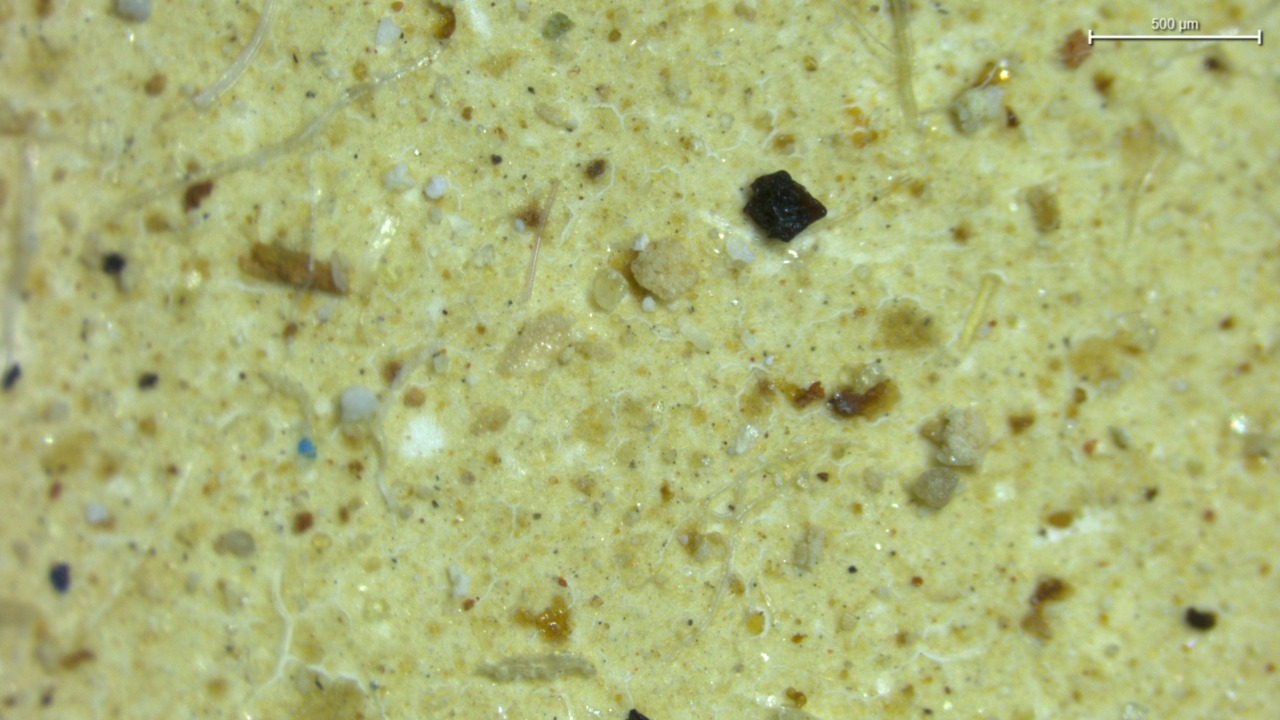microplastic_fragment: (633, 237, 714, 301), (931, 406, 988, 466), (956, 83, 1005, 134), (913, 470, 960, 508), (427, 176, 446, 198)
